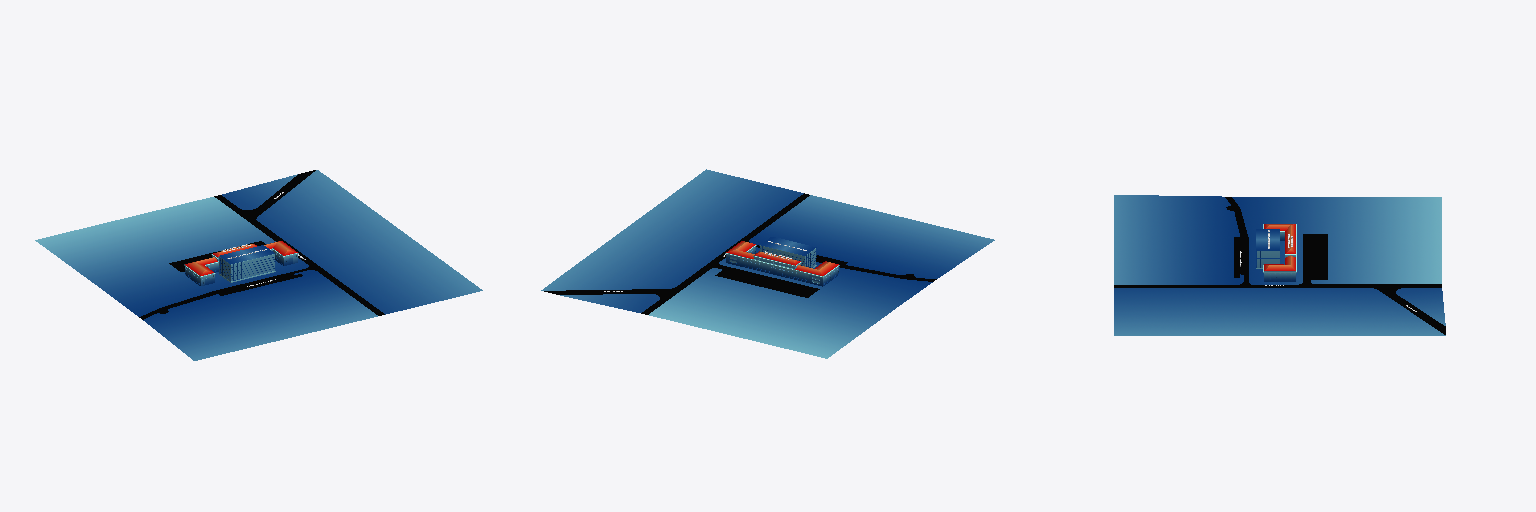
The picture shows the model from 3 angles: view 1: azimuth 30°, elevation 25°; view 2: azimuth 150°, elevation 25°; view 3: azimuth 270°, elevation 25°; orthographic projection.
Parts seen in each view (by area): view 1: polySurface43 polySurface37, polySurface38, polySurface37 polySurface42, polySurface37 polySurface41, pCube30, polySurface36; view 2: polySurface43 polySurface37, polySurface38, polySurface37 polySurface42, polySurface37 polySurface41, polySurface36, pCube30; view 3: polySurface43 polySurface37, polySurface38, polySurface37 polySurface42, polySurface37 polySurface41, polySurface36, pCube30.
Part boxes in pixels (bbox=[...]): polySurface43 polySurface37: bbox=[222, 170, 482, 314]; polySurface38: bbox=[35, 197, 308, 316]; polySurface37 polySurface42: bbox=[143, 270, 377, 360]; polySurface37 polySurface41: bbox=[139, 170, 384, 319]; pCube30: bbox=[219, 245, 275, 282]; polySurface36: bbox=[184, 241, 298, 285]; polySurface43 polySurface37: bbox=[541, 169, 803, 312]; polySurface38: bbox=[649, 247, 932, 358]; polySurface37 polySurface42: bbox=[749, 195, 994, 278]; polySurface37 polySurface41: bbox=[544, 193, 936, 314]; polySurface36: bbox=[725, 241, 839, 286]; pCube30: bbox=[760, 237, 816, 267]; polySurface43 polySurface37: bbox=[1114, 288, 1445, 335]; polySurface38: bbox=[1232, 197, 1441, 284]; polySurface37 polySurface42: bbox=[1114, 195, 1243, 284]; polySurface37 polySurface41: bbox=[1114, 197, 1445, 334]; polySurface36: bbox=[1263, 224, 1296, 281]; pCube30: bbox=[1256, 229, 1279, 268].
Size of the model in its own units: 104 by 6.5 by 103.
4 materials, 1 textured.